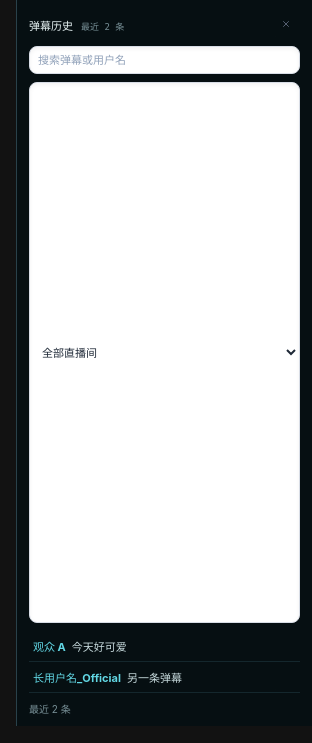
keeps the list and reports clipboard failure
Click the button with aria-label "复制 观众 A 的弹幕".
click(49, 647)  # box 29,631 -> 300,662
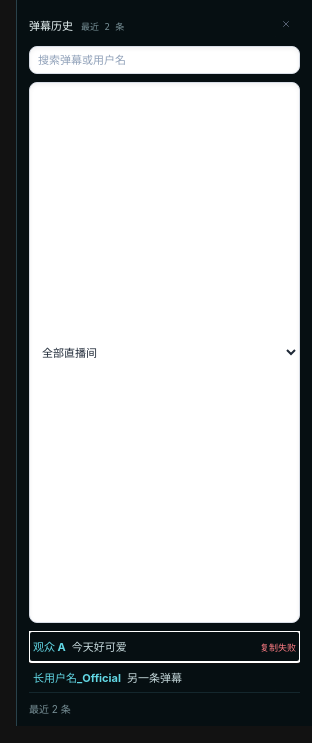
Expected: the text "今天好可爱" is shown, 72,640 -> 127,654
Result: the text "复制失败" is shown at 260,641 -> 296,654
